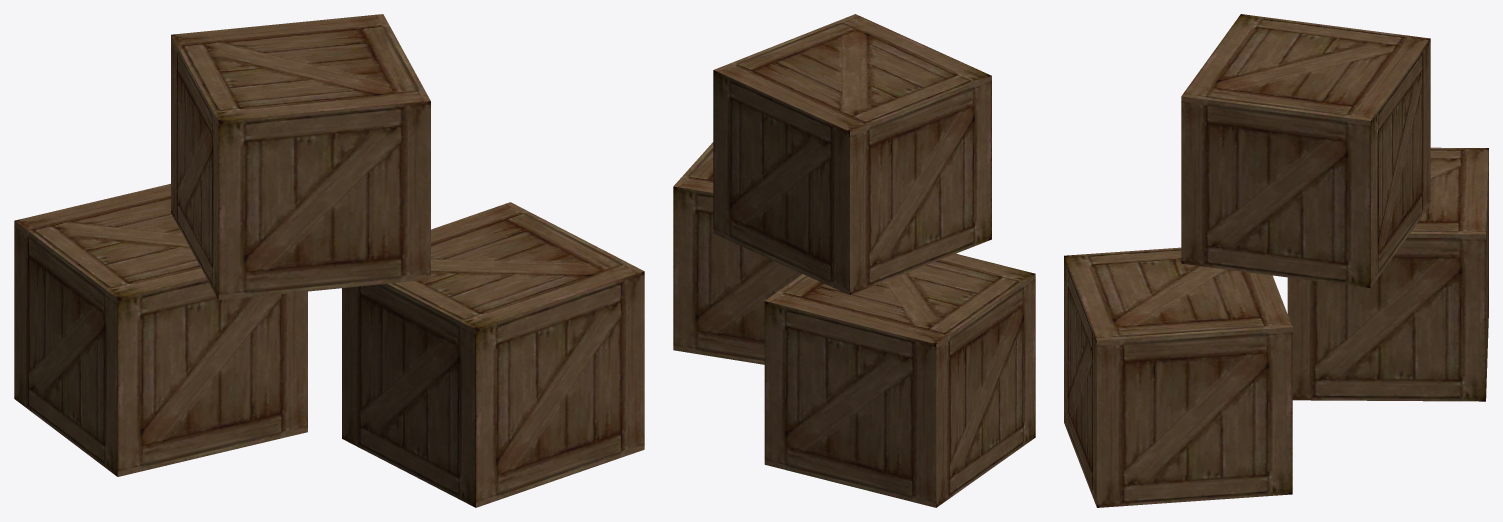
3 views of the same model, side by side, from view 1: azimuth 30°, elevation 25°; view 2: azimuth 150°, elevation 25°; view 3: azimuth 270°, elevation 25° (orthographic). The views are drawn at different scales.
Visible parts, largest first — view 1: pasted__Combined_Mesh_root_scene__Mesh_polySurface4497; view 2: pasted__Combined_Mesh_root_scene__Mesh_polySurface4497; view 3: pasted__Combined_Mesh_root_scene__Mesh_polySurface4497.
Part boxes in pixels (box(x1,y1,x2,y2)): pasted__Combined_Mesh_root_scene__Mesh_polySurface4497: box(14, 14, 644, 507); pasted__Combined_Mesh_root_scene__Mesh_polySurface4497: box(673, 14, 1035, 507); pasted__Combined_Mesh_root_scene__Mesh_polySurface4497: box(1064, 14, 1488, 507).
Size of the model in its own units: 5.16 by 4.16 by 4.79.
